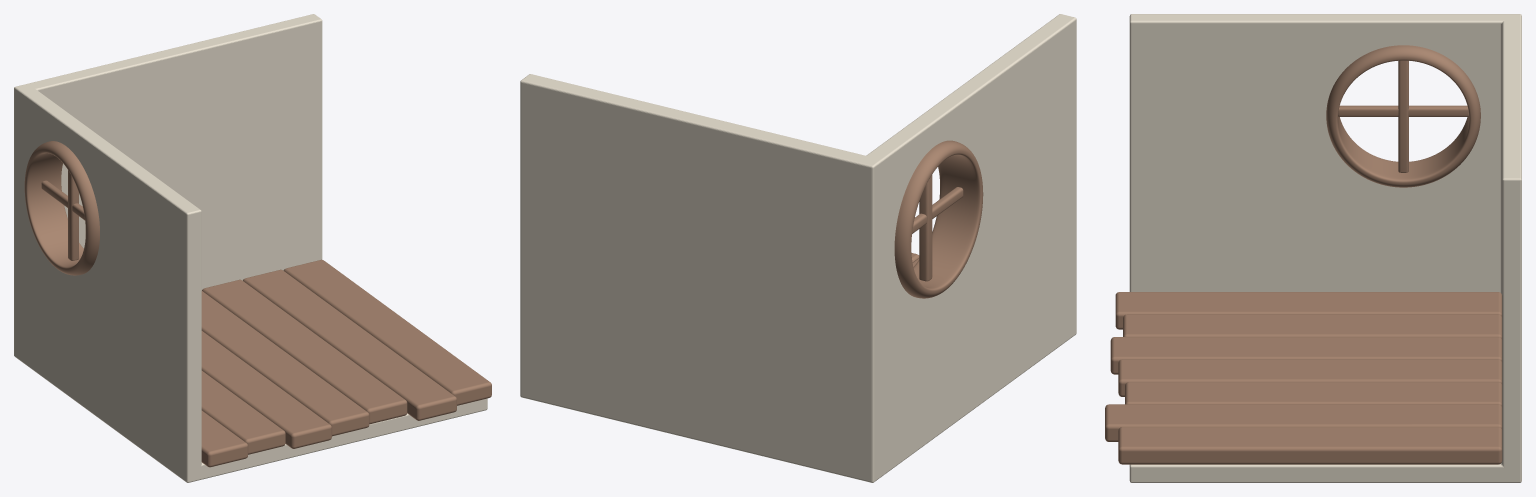
Rendered from room.glb.
3 renders of one model, left to right at view 1: azimuth 30°, elevation 25°; view 2: azimuth 150°, elevation 25°; view 3: azimuth 270°, elevation 25°, orthographic. The views are drawn at different scales.
Parts seen in each view (by area): view 1: Room, Floor, WindowBorder, WindowFrame; view 2: Room, WindowBorder, WindowFrame, WindowFrame2; view 3: Room, Floor, WindowBorder, WindowFrame2, WindowFrame.
Boxes of the visible parts, x1,y1,x2,y2 form: Room: (14, 14, 487, 482); Floor: (201, 259, 491, 467); WindowBorder: (24, 141, 99, 275); WindowFrame: (68, 170, 78, 260); Room: (520, 14, 1076, 482); WindowBorder: (894, 140, 983, 298); WindowFrame: (919, 175, 932, 281); WindowFrame2: (912, 187, 963, 233); Room: (1129, 14, 1521, 482); Floor: (1105, 292, 1502, 464); WindowBorder: (1326, 45, 1480, 187); WindowFrame2: (1338, 105, 1468, 116); WindowFrame: (1398, 60, 1408, 172).
Bounding box in the file's own units: 7.23 × 6 × 7.44.
